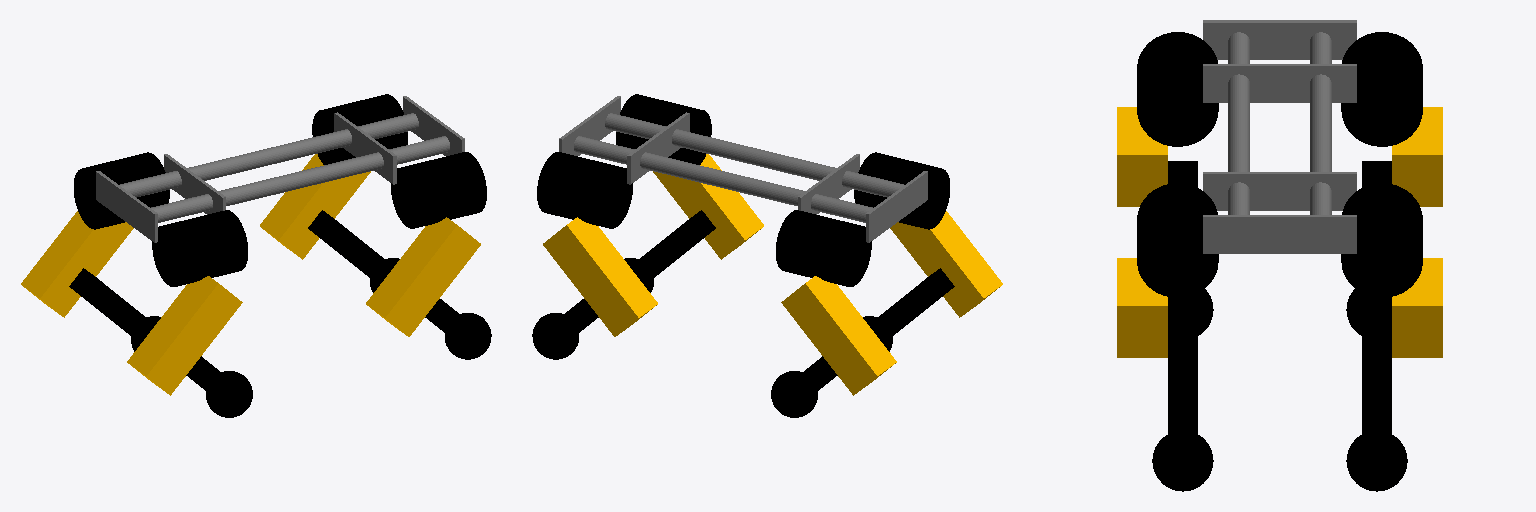
robot.urdf — bipedal:
<?xml version="1.0"?>
<robot name="bipedal" >


  <link name="base_link">

    <visual>
      <geometry>
        <cylinder radius="0.0107" length="0.44"/>
      </geometry>
      <origin rpy="0 1.5708 0" xyz="0 0.04 0"/>
      <material name="grey">
        <color rgba=".5 .5 .5 1"/>
      </material>
    </visual>

    <visual>
      <geometry>
        <cylinder radius="0.0107" length="0.44"/>
      </geometry>
      <origin rpy="0 1.5708 0" xyz="0 -0.04 0"/>
      <material name="grey">
      </material>
    </visual>

    <visual>
      <geometry>
        <box size="0.005 0.15 0.04"/>
      </geometry>
      <origin rpy="0 0 0" xyz="0.225 0 0"/>
      <material name="grey">
      </material>
    </visual>
  
  	<visual>
      <geometry>
        <box size="0.005 0.15 0.04"/>
      </geometry>
      <origin rpy="0 0 0" xyz="0.125 0 0"/>
      <material name="grey">
      </material>
    </visual>

    <visual>
      <geometry>
        <box size="0.005 0.15 0.04"/>
      </geometry>
      <origin rpy="0 0 0" xyz="-0.225 0 0"/>
      <material name="grey">
      </material>
    </visual>
  
  	<visual>
      <geometry>
        <box size="0.005 0.15 0.04"/>
      </geometry>
      <origin rpy="0 0 0" xyz="-0.125 0 0"/>
      <material name="grey">
      </material>
    </visual>

    <collision>
      <geometry>
        <box size="0.4 0.15 0.1"/>
      </geometry>
    </collision>

    <inertial>
      <mass value=".5"/>
      <inertia ixx="0.015"  ixy="0"  ixz="0" iyy="0.015" iyz="0" izz="0.015" />
    </inertial>
  </link>



  <link name="fl_shoulder">
    <visual>
      <geometry>
        <cylinder radius="0.04" length="0.095"/>
      </geometry>
      <origin rpy="0 1.5708 0" xyz="0 0 0"/>
      <material name="black">
        <color rgba="0 0 0 1"/>
      </material>
    </visual>

    <collision>
      <geometry>
        <cylinder radius="0.04" length="0.095"/>
      </geometry>
      <origin rpy="0 1.5708 0" xyz="0 0 0"/>
    </collision>

    <inertial>
      <mass value=".1"/>
      <inertia ixx="0.00005"  ixy="0"  ixz="0" iyy="0.00013" iyz="0" izz="0.00018" />
    </inertial>
  </link>



  <joint name="fl_shoulder_to_base" type="revolute">
    <axis xyz="1 0 0"/>
    <limit effort="1.1" lower="-0.785" upper="0.785" velocity="2"/>
    <origin rpy="0 0 0" xyz="0.175 0.1 -0.03"/>
    <parent link="base_link"/>
    <child link="fl_shoulder"/>
  </joint>



  <link name="fr_shoulder">
    <visual>
      <geometry>
        <cylinder radius="0.04" length="0.095"/>
      </geometry>
      <origin rpy="0 1.5708 0" xyz="0 0 0"/>
      <material name="black">
      </material>
    </visual>

    <collision>
      <geometry>
        <cylinder radius="0.04" length="0.095"/>
      </geometry>
      <origin rpy="0 1.5708 0" xyz="0 0 0"/>
    </collision>

    <inertial>
      <mass value=".1"/>
      <inertia ixx="0.00005"  ixy="0"  ixz="0" iyy="0.00013" iyz="0" izz="0.00018" />
    </inertial>
  </link>
  


  <joint name="fr_shoulder_to_base" type="revolute">
    <axis xyz="1 0 0"/>
    <limit effort="1.1" lower="-0.785" upper="0.785" velocity="2"/>
    <origin rpy="0 0 0" xyz="0.175 -0.1 -0.03"/>
    <parent link="base_link"/>
    <child link="fr_shoulder"/>
  </joint>



  <link name="bl_shoulder">
    <visual>
      <geometry>
        <cylinder radius="0.04" length="0.095"/>
      </geometry>
      <origin rpy="0 1.5708 0" xyz="0 0 0"/>
      <material name="black">
      </material>
    </visual>

    <collision>
      <geometry>
        <cylinder radius="0.04" length="0.095"/>
      </geometry>
      <origin rpy="0 1.5708 0" xyz="0 0 0"/>
    </collision>

    <inertial>
      <mass value=".1"/>
      <inertia ixx="0.00005"  ixy="0"  ixz="0" iyy="0.00013" iyz="0" izz="0.00018" />
    </inertial>
  </link>
  


  <joint name="bl_shoulder_to_base" type="revolute">
    <axis xyz="1 0 0"/>
    <limit effort="1.1" lower="-0.785" upper="0.785" velocity="2"/>
    <origin rpy="0 0 0" xyz="-0.175 0.1 -0.03"/>
    <parent link="base_link"/>
    <child link="bl_shoulder"/>
  </joint>



  <link name="br_shoulder">
    <visual>
      <geometry>
        <cylinder radius="0.04" length="0.095"/>
      </geometry>
      <origin rpy="0 1.5708 0" xyz="0 0 0"/>
      <material name="black">
      </material>
    </visual>

    <collision>
      <geometry>
        <cylinder radius="0.04" length="0.095"/>
      </geometry>
      <origin rpy="0 1.5708 0" xyz="0 0 0"/>
    </collision>

    <inertial>
      <mass value=".1"/>
      <inertia ixx="0.00005"  ixy="0"  ixz="0" iyy="0.00013" iyz="0" izz="0.00018" />
    </inertial>
  </link>
  


  <joint name="br_shoulder_to_base" type="revolute">
    <axis xyz="1 0 0"/>
    <limit effort="1.1" lower="-0.785" upper="0.785" velocity="2"/>
    <origin rpy="0 0 0" xyz="-0.175 -0.1 -0.03"/>
    <parent link="base_link"/>
    <child link="br_shoulder"/>
  </joint>



  <link name="fl_thigh">
    <visual>
      <geometry>
        <box size="0.05 0.05 0.15"/>
      </geometry>
      <origin rpy="0 0 0" xyz="0 0.025 -0.075"/>
      <material name="amber">
        <color rgba="1 .75 0 1"/>
      </material>
    </visual>

    <collision>
      <geometry>
        <box size="0.05 0.05 0.15"/>
      </geometry>
      <origin rpy="0 0 0" xyz="0 0.025 -0.075"/>
    </collision>

    <inertial>
      <mass value=".1"/>
      <inertia ixx="0.00005"  ixy="0"  ixz="0" iyy="0.00013" iyz="0" izz="0.00018" />
    </inertial>
  </link>



  <joint name="fl_thigh_to_shoulder" type="revolute">
    <axis xyz="0 1 0"/>
    <limit effort="1.1" lower="-0.785" upper="0.785" velocity="2"/>
    <origin rpy="0 0.785 0" xyz="0.01 0.01 -0.04"/>
    <parent link="fl_shoulder"/>
    <child link="fl_thigh"/>
  </joint>



  <link name="fr_thigh">
    <visual>
      <geometry>
        <box size="0.05 0.05 0.15"/>
      </geometry>
      <origin rpy="0 0 0" xyz="0 -0.025 -0.075"/>
      <material name="amber">
      </material>
    </visual>

    <collision>
      <geometry>
        <box size="0.05 0.05 0.15"/>
      </geometry>
      <origin rpy="0 0 0" xyz="0 -0.025 -0.075"/>
    </collision>

    <inertial>
      <mass value=".1"/>
      <inertia ixx="0.00005"  ixy="0"  ixz="0" iyy="0.00013" iyz="0" izz="0.00018" />
    </inertial>
  </link>
  


  <joint name="fr_thigh_to_shoulder" type="revolute">
    <axis xyz="0 1 0"/>
    <limit effort="1.1" lower="-0.785" upper="0.785" velocity="2"/>
    <origin rpy="0 0.785 0" xyz="0.01 -0.01 -0.04"/>
    <parent link="fr_shoulder"/>
    <child link="fr_thigh"/>
  </joint>



  <link name="bl_thigh">
    <visual>
      <geometry>
        <box size="0.05 0.05 0.15"/>
      </geometry>
      <origin rpy="0 0 0" xyz="0 0.025 -0.075"/>
      <material name="amber">
      </material>
    </visual>

    <collision>
      <geometry>
        <box size="0.05 0.05 0.15"/>
      </geometry>
      <origin rpy="0 0 0" xyz="0 0.025 -0.075"/>
    </collision>

    <inertial>
      <mass value=".1"/>
      <inertia ixx="0.00005"  ixy="0"  ixz="0" iyy="0.00013" iyz="0" izz="0.00018" />
    </inertial>
  </link>
  


  <joint name="bl_thigh_to_shoulder" type="revolute">
    <axis xyz="0 1 0"/>
    <limit effort="1.1" lower="-0.785" upper="0.785" velocity="2"/>
    <origin rpy="0 0.785 0" xyz="0.01 0.01 -0.04"/>
    <parent link="bl_shoulder"/>
    <child link="bl_thigh"/>
  </joint>



  <link name="br_thigh">
    <visual>
      <geometry>
        <box size="0.05 0.05 0.15"/>
      </geometry>
      <origin rpy="0 0 0" xyz="0 -0.025 -0.075"/>
      <material name="amber">
      </material>
    </visual>

    <collision>
      <geometry>
        <box size="0.05 0.05 0.15"/>
      </geometry>
      <origin rpy="0 0 0" xyz="0 -0.025 -0.075"/>
    </collision>

    <inertial>
      <mass value=".1"/>
      <inertia ixx="0.00005"  ixy="0"  ixz="0" iyy="0.00013" iyz="0" izz="0.00018" />
    </inertial>
  </link>
  


  <joint name="br_thigh_to_shoulder" type="revolute">
    <axis xyz="0 1 0"/>
    <limit effort="1.1" lower="-0.785" upper="0.785" velocity="2"/>
    <origin rpy="0 0.785 0" xyz="0.01 -0.01 -0.04"/>
    <parent link="br_shoulder"/>
    <child link="br_thigh"/>
  </joint>



  <link name="fl_bicep">
    <visual>
      <geometry>
        <box size="0.03 0.03 0.15"/>
      </geometry>
      <origin rpy="0 0 0" xyz="0 -0.015 -0.075"/>
      <material name="black">
      </material>
    </visual>
	
	<visual>
      <geometry>
        <sphere radius="0.03"/>
      </geometry>
      <origin rpy="0 0 0" xyz="0 -0.015 -0.15"/>
      <material name="black">
      </material>
    </visual>
	
    <collision>
      <geometry>
        <box size="0.03 0.03 0.15"/>
      </geometry>
      <origin rpy="0 0 0" xyz="0 -0.015 -0.075"/>
    </collision>

	<collision>
      <geometry>
        <sphere radius="0.03"/>
      </geometry>
      <origin rpy="0 0 0" xyz="0 -0.015 -0.15"/>
    </collision>	


    <inertial>
      <mass value=".1"/>
      <inertia ixx="0.00005"  ixy="0"  ixz="0" iyy="0.00013" iyz="0" izz="0.00018" />
    </inertial>
  </link>
  


  <joint name="fl_bicep_to_thigh" type="revolute">
    <axis xyz="0 1 0"/>
    <limit effort="1.1" lower="-0.785" upper="0.785" velocity="2"/>
    <origin rpy="0 -1.5708 0" xyz="0 0 -0.1"/>
    <parent link="fl_thigh"/>
    <child link="fl_bicep"/>
  </joint>



  <link name="fr_bicep">
    <visual>
      <geometry>
        <box size="0.03 0.03 0.15"/>
      </geometry>
      <origin rpy="0 0 0" xyz="0 0.015 -0.075"/>
      <material name="black">
      </material>
    </visual>
	
	<visual>
      <geometry>
        <sphere radius="0.03"/>
      </geometry>
      <origin rpy="0 0 0" xyz="0 0.015 -0.15"/>
      <material name="black">
      </material>
    </visual>
	
    <collision>
      <geometry>
        <box size="0.03 0.03 0.15"/>
      </geometry>
      <origin rpy="0 0 0" xyz="0 0.015 -0.075"/>
    </collision>

	<collision>
      <geometry>
        <sphere radius="0.03"/>
      </geometry>
      <origin rpy="0 0 0" xyz="0 0.015 -0.15"/>
    </collision>	

    <inertial>
      <mass value=".1"/>
      <inertia ixx="0.00005"  ixy="0"  ixz="0" iyy="0.00013" iyz="0" izz="0.00018" />
    </inertial>
  </link>
  


  <joint name="fr_bicep_to_thigh" type="revolute">
    <axis xyz="0 1 0"/>
    <limit effort="1.1" lower="-0.785" upper="0.785" velocity="2"/>
    <origin rpy="0 -1.5708 0" xyz="0 0 -0.1"/>
    <parent link="fr_thigh"/>
    <child link="fr_bicep"/>
  </joint>



  <link name="bl_bicep">
    <visual>
      <geometry>
        <box size="0.03 0.03 0.15"/>
      </geometry>
      <origin rpy="0 0 0" xyz="0 -0.015 -0.075"/>
      <material name="black">
      </material>
    </visual>
	
	<visual>
      <geometry>
        <sphere radius="0.03"/>
      </geometry>
      <origin rpy="0 0 0" xyz="0 -0.015 -0.15"/>
      <material name="black">
      </material>
    </visual>
	
    <collision>
      <geometry>
        <box size="0.03 0.03 0.15"/>
      </geometry>
      <origin rpy="0 0 0" xyz="0 -0.015 -0.075"/>
    </collision>

	<collision>
      <geometry>
        <sphere radius="0.03"/>
      </geometry>
      <origin rpy="0 0 0" xyz="0 -0.015 -0.15"/>
    </collision>	

    <inertial>
      <mass value=".1"/>
      <inertia ixx="0.00005"  ixy="0"  ixz="0" iyy="0.00013" iyz="0" izz="0.00018" />
    </inertial>
  </link>
  


  <joint name="bl_bicep_to_thigh" type="revolute">
    <axis xyz="0 1 0"/>
    <limit effort="1.1" lower="-0.785" upper="0.785" velocity="2"/>
    <origin rpy="0 -1.5708 0" xyz="0 0 -0.1"/>
    <parent link="bl_thigh"/>
    <child link="bl_bicep"/>
  </joint>



  <link name="br_bicep">
    <visual>
      <geometry>
        <box size="0.03 0.03 0.15"/>
      </geometry>
      <origin rpy="0 0 0" xyz="0 0.015 -0.075"/>
      <material name="black">
      </material>
    </visual>
	
	<visual>
      <geometry>
        <sphere radius="0.03"/>
      </geometry>
      <origin rpy="0 0 0" xyz="0 0.015 -0.15"/>
      <material name="black">
      </material>
    </visual>
	
    <collision>
      <geometry>
        <box size="0.03 0.03 0.15"/>
      </geometry>
      <origin rpy="0 0 0" xyz="0 0.015 -0.075"/>
    </collision>

	<collision>
      <geometry>
        <sphere radius="0.03"/>
      </geometry>
      <origin rpy="0 0 0" xyz="0 0.015 -0.15"/>
    </collision>	

    <inertial>
      <mass value=".1"/>
      <inertia ixx="0.00005"  ixy="0"  ixz="0" iyy="0.00013" iyz="0" izz="0.00018" />
    </inertial>
  </link>
  


  <joint name="br_bicep_to_thigh" type="revolute">
    <axis xyz="0 1 0"/>
    <limit effort="1.1" lower="-0.785" upper="0.785" velocity="2"/>
    <origin rpy="0 -1.5708 0" xyz="0 0 -0.1"/>
    <parent link="br_thigh"/>
    <child link="br_bicep"/>
  </joint>
</robot>

--- Facts derived from the render (not from the file) ---
Views: 3 orthographic renders of the robot side by side, from view 1: azimuth 30°, elevation 25°; view 2: azimuth 150°, elevation 25°; view 3: azimuth 270°, elevation 25°.
Model bipedal with 13 links and 12 joints (12 revolute), rooted at base_link, posed all joints at 0.
Visible links, largest first — view 1: base_link, fr_thigh, br_thigh, br_shoulder, fr_shoulder, bl_thigh, fl_thigh, bl_shoulder, fl_shoulder, bl_bicep, fl_bicep, br_bicep (+1 smaller); view 2: base_link, fl_thigh, bl_thigh, bl_shoulder, fl_shoulder, br_thigh, fr_thigh, br_shoulder, fr_shoulder, br_bicep, fr_bicep, bl_bicep (+1 smaller); view 3: base_link, fl_shoulder, fr_shoulder, bl_shoulder, br_shoulder, fl_bicep, fr_bicep, fl_thigh, fr_thigh, bl_thigh, br_thigh, bl_bicep (+1 smaller).
Boxes of the visible links, left/top/right/bottom form: base_link: left=96, top=96, right=464, bottom=242; fr_thigh: left=366, top=217, right=480, bottom=336; br_thigh: left=127, top=276, right=242, bottom=395; br_shoulder: left=152, top=210, right=247, bottom=286; fr_shoulder: left=391, top=152, right=486, bottom=228; bl_thigh: left=21, top=211, right=133, bottom=317; fl_thigh: left=260, top=154, right=370, bottom=259; bl_shoulder: left=74, top=152, right=169, bottom=229; fl_shoulder: left=312, top=94, right=407, bottom=164; bl_bicep: left=69, top=268, right=160, bottom=351; fl_bicep: left=308, top=210, right=399, bottom=292; br_bicep: left=186, top=356, right=252, bottom=417; base_link: left=559, top=96, right=927, bottom=242; fl_thigh: left=543, top=217, right=657, bottom=336; bl_thigh: left=781, top=276, right=896, bottom=395; bl_shoulder: left=776, top=210, right=871, bottom=286; fl_shoulder: left=537, top=152, right=632, bottom=228; br_thigh: left=890, top=211, right=1002, bottom=317; fr_thigh: left=653, top=154, right=763, bottom=259; br_shoulder: left=854, top=152, right=949, bottom=229; fr_shoulder: left=616, top=94, right=711, bottom=164; br_bicep: left=863, top=268, right=954, bottom=351; fr_bicep: left=624, top=210, right=715, bottom=292; bl_bicep: left=771, top=356, right=837, bottom=417; base_link: left=1203, top=20, right=1356, bottom=253; fl_shoulder: left=1341, top=183, right=1422, bottom=297; fr_shoulder: left=1137, top=183, right=1218, bottom=297; bl_shoulder: left=1341, top=32, right=1422, bottom=146; br_shoulder: left=1137, top=32, right=1218, bottom=146; fl_bicep: left=1346, top=312, right=1407, bottom=491; fr_bicep: left=1152, top=312, right=1213, bottom=491; fl_thigh: left=1392, top=258, right=1442, bottom=357; fr_thigh: left=1117, top=258, right=1167, bottom=357; bl_thigh: left=1392, top=107, right=1442, bottom=206; br_thigh: left=1117, top=107, right=1167, bottom=206; bl_bicep: left=1346, top=161, right=1391, bottom=335.
Size in the robot's own frame: 0.5391 by 0.32 by 0.2968 metres.
Geometry: primitives only (box / cylinder / sphere), no mesh files.